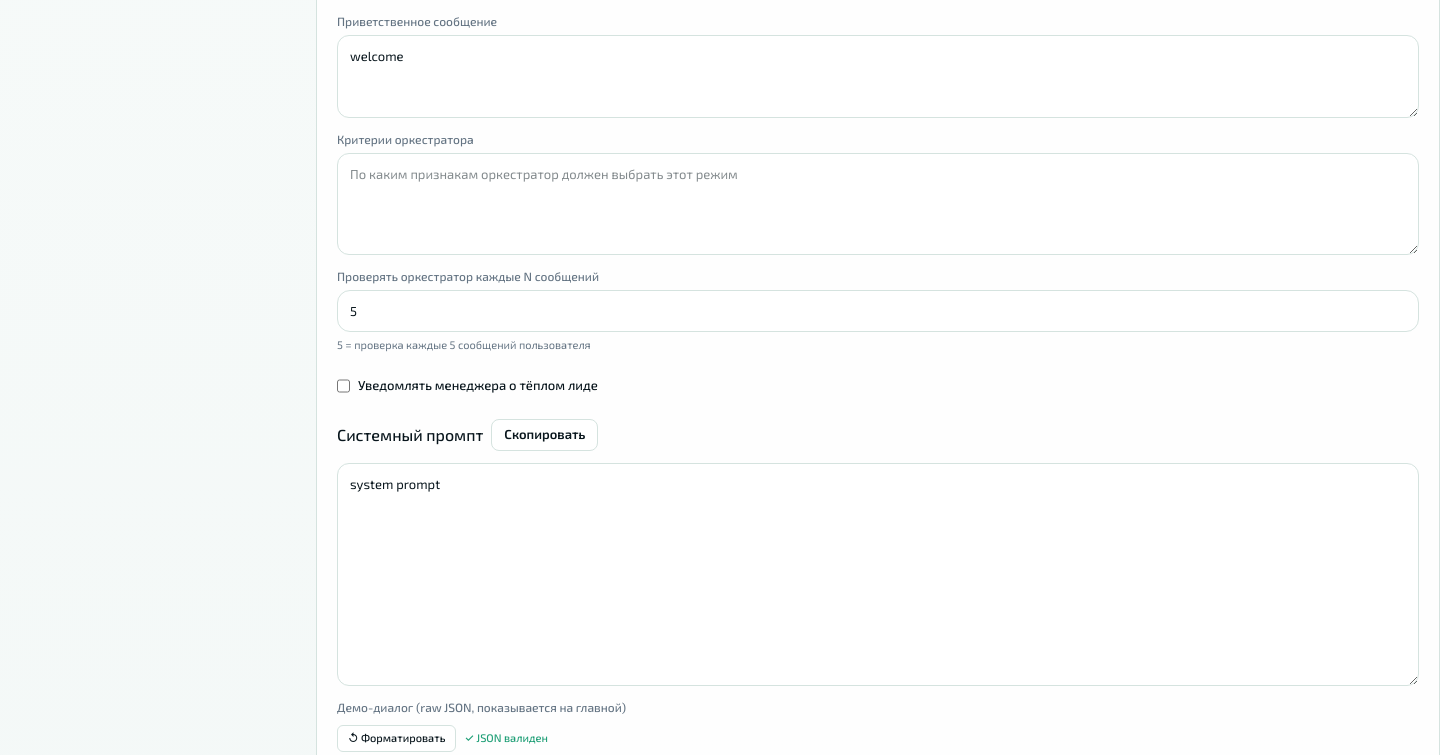
Scenario: EditPanel — lead-уведомления режима › включение триггера показывает получателей (Max и Telegram) и порог с текущими значениями
(page scrolled)
Click the checkbox labelled "Уведомлять менеджера о тёплом лиде" at (344, 386), box left=337, top=365, right=350, bottom=407
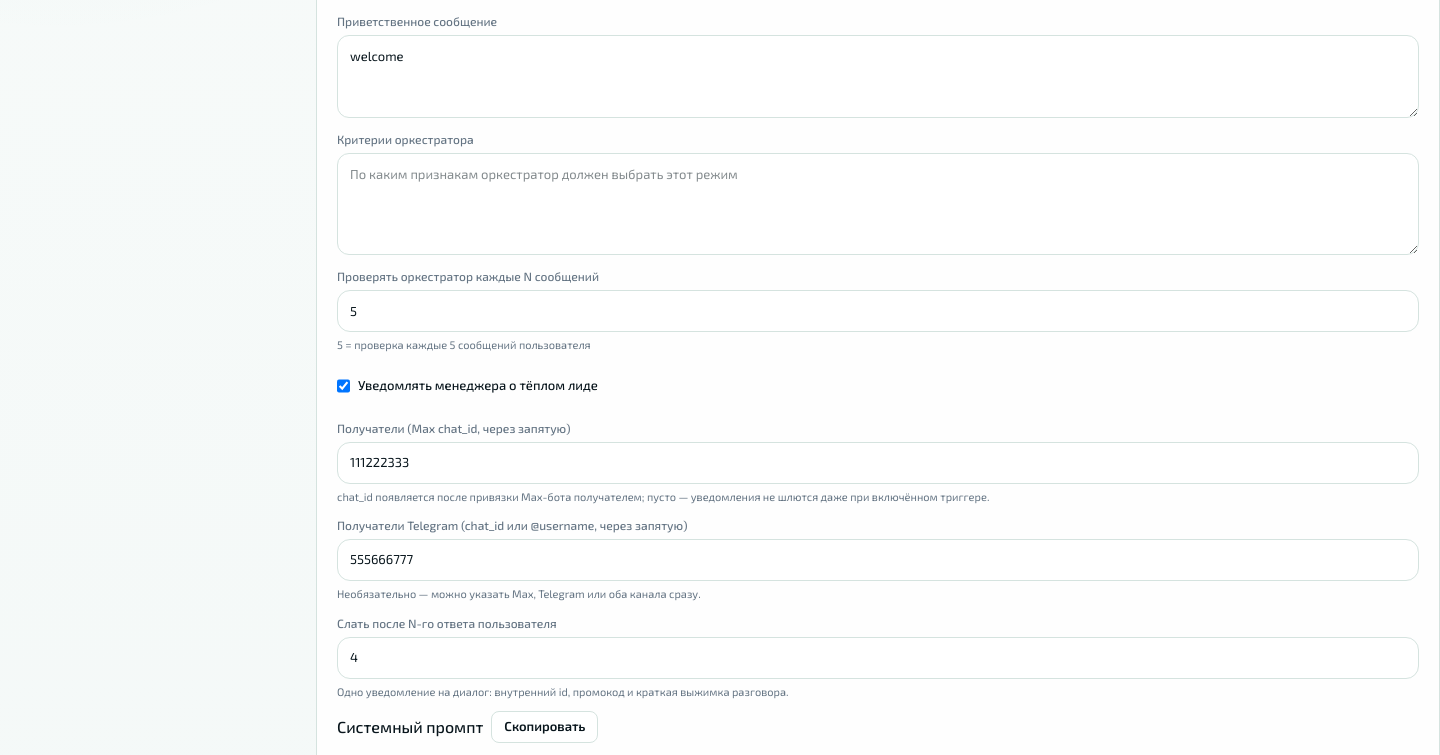
Check: the field labelled "Получатели (Max" holds "111222333", box left=337, top=442, right=1419, bottom=484
Check: the field labelled "Получатели Telegram" holds "555666777", box left=337, top=539, right=1419, bottom=581
Check: the number field labelled "Слать после N-го ответа" holds "4", box left=337, top=636, right=1419, bottom=678
